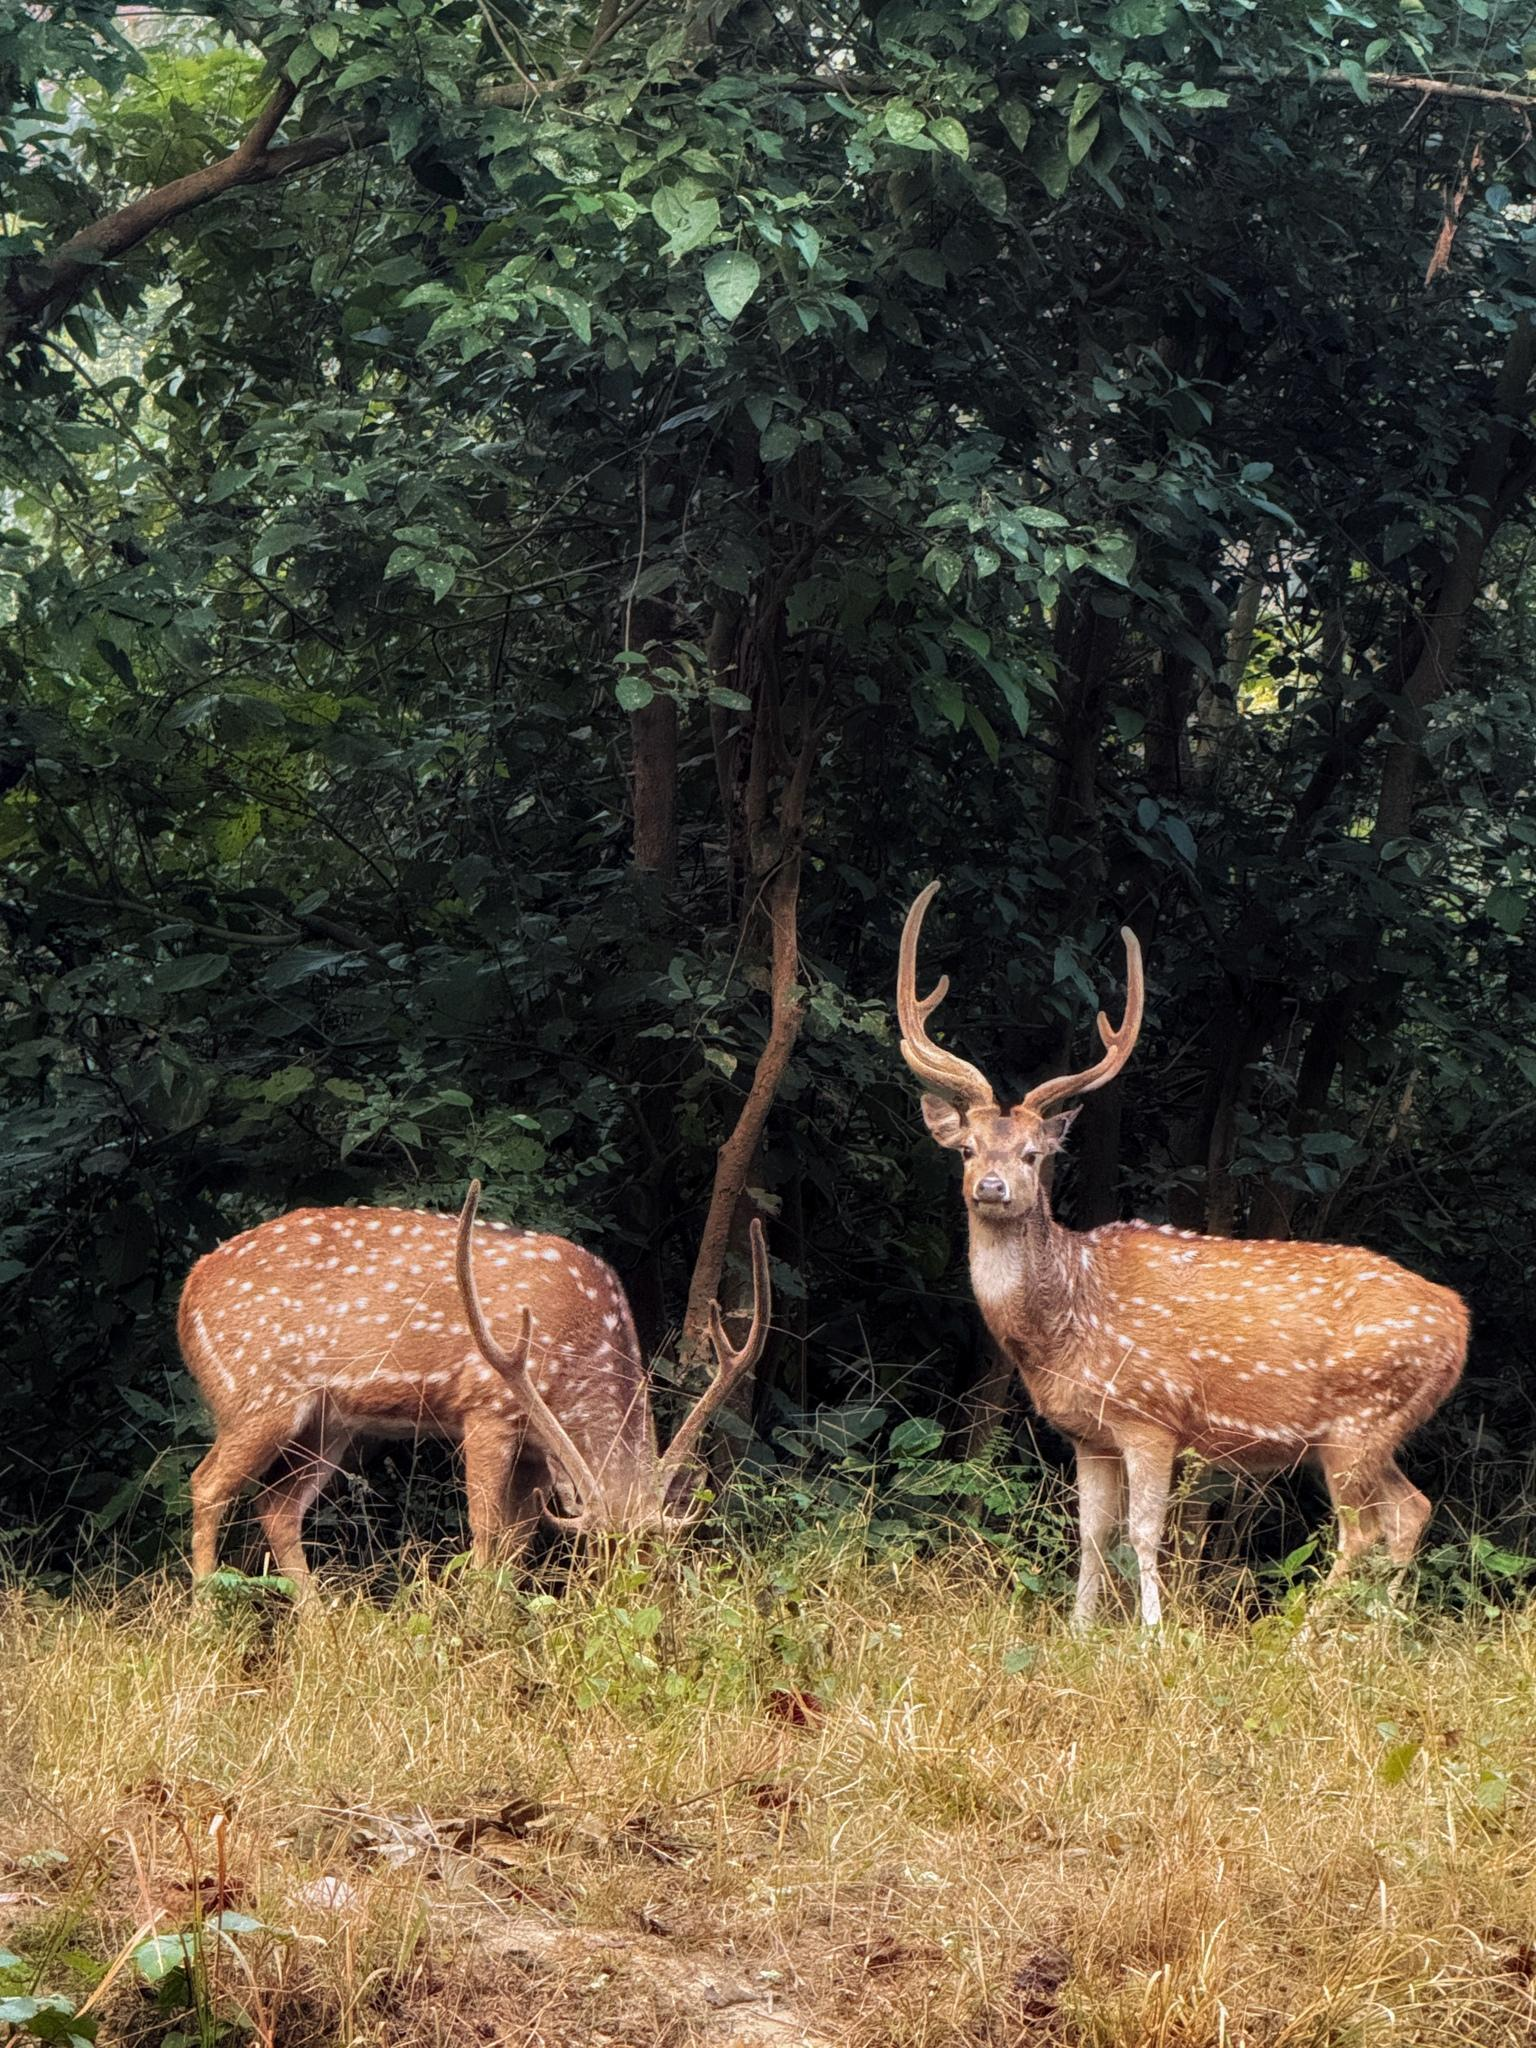Deer: (897, 884, 1468, 1625), (177, 1179, 770, 1587), (336, 1300, 365, 1317)
